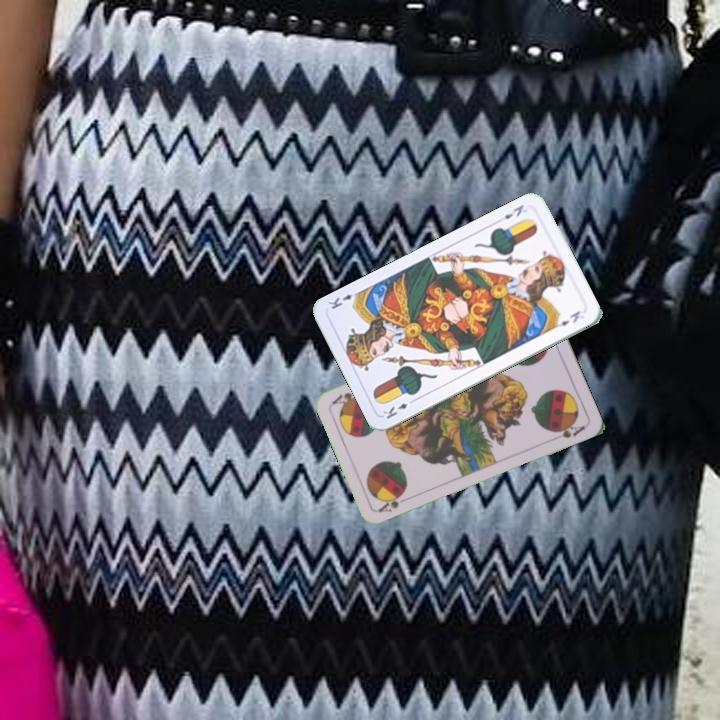EK: (379, 395, 418, 422), (493, 200, 526, 224)
SA: (375, 492, 413, 515)
